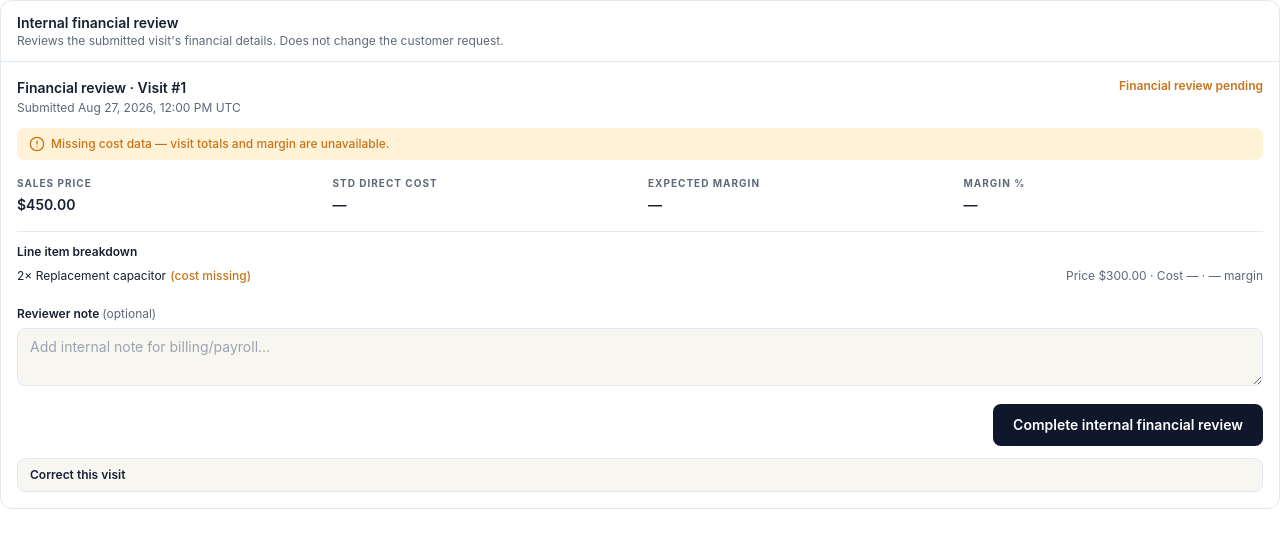
Test: ActualWorkReviewCard › distinguishes the two review-blocked outcomes in the notice
This screenshot has width=1280, height=554.
Step 1. Click the button "Complete internal financial review" → (1128, 425), box [993, 404, 1263, 446]
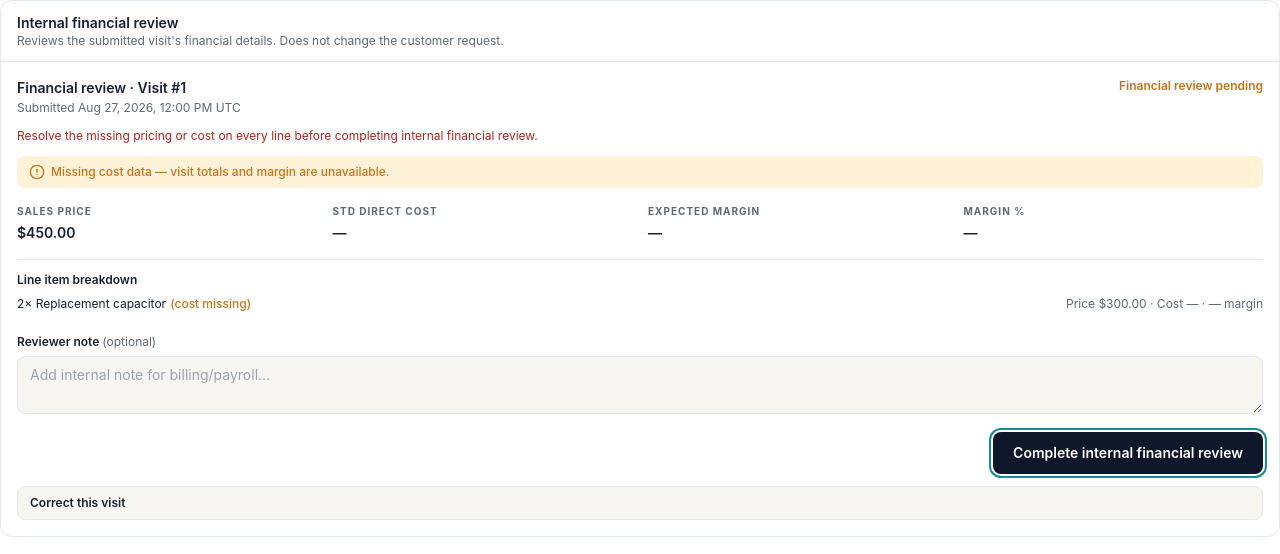
Check: the message shows "missing pricing or cost on every line", box [17, 128, 538, 143]
